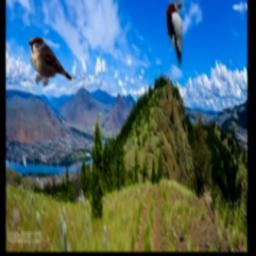Sparrow: (26, 36, 72, 87)
Woodpecker: (167, 0, 183, 67)
